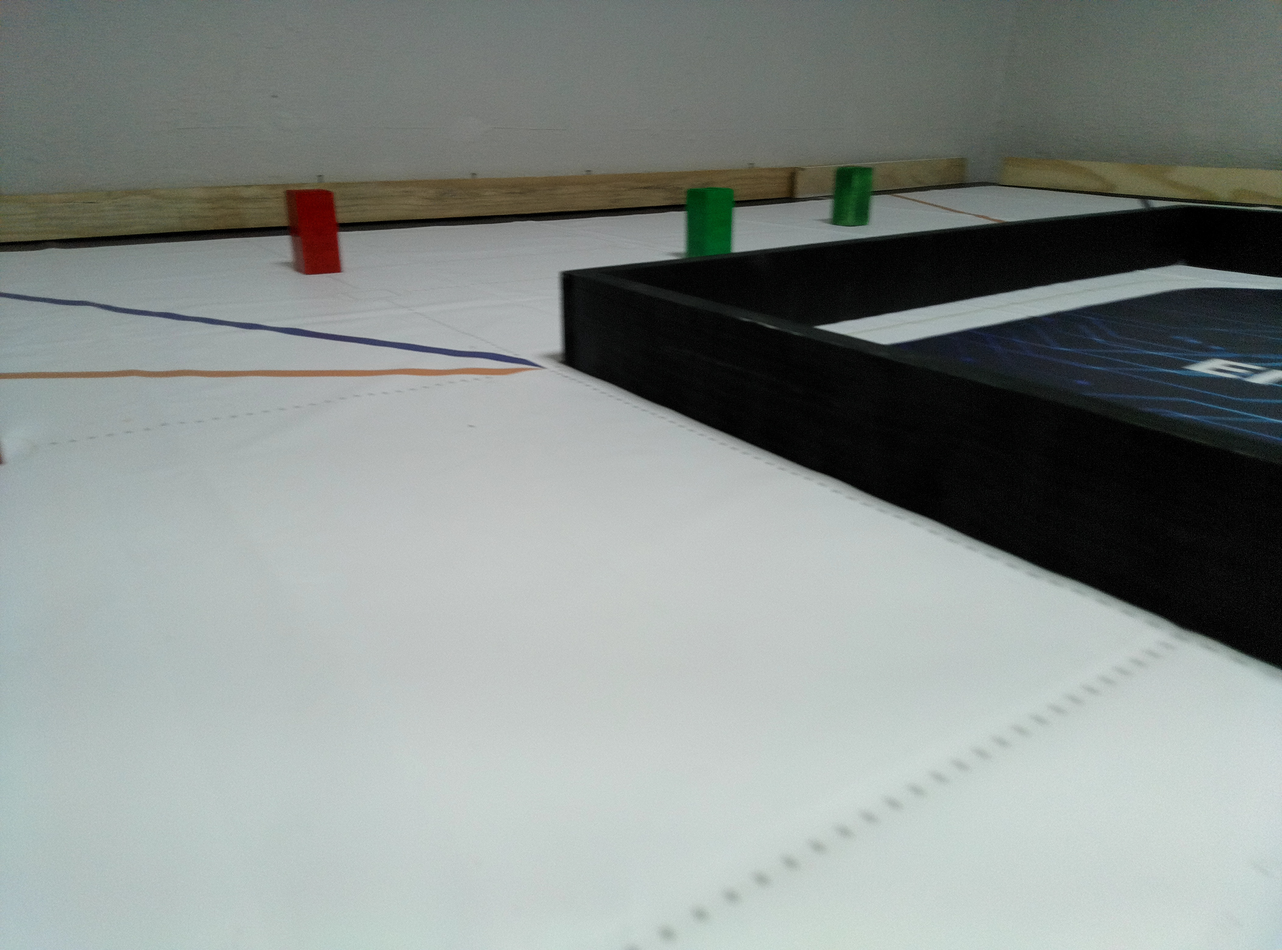greenbox: (685, 185, 734, 257), (831, 165, 876, 226)
redbox: (282, 188, 344, 275)
